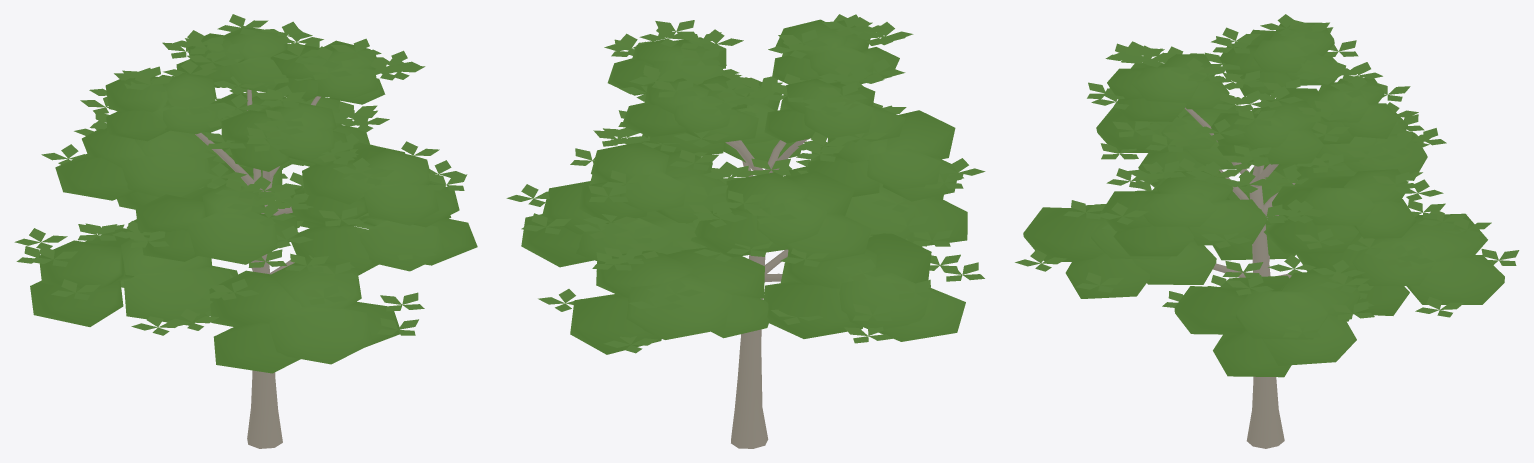
File: Blender_PacificDogwood_1.glb
3 views of the same model, side by side, from view 1: azimuth 30°, elevation 25°; view 2: azimuth 150°, elevation 25°; view 3: azimuth 270°, elevation 25° (orthographic). The views are drawn at different scales.
Visible parts, largest first — view 1: Blender_PacificDogwood_1; view 2: Blender_PacificDogwood_1; view 3: Blender_PacificDogwood_1.
Part boxes in pixels (left/top/right/bottom): Blender_PacificDogwood_1: left=14, top=14, right=477, bottom=448; Blender_PacificDogwood_1: left=506, top=14, right=985, bottom=448; Blender_PacificDogwood_1: left=1015, top=14, right=1519, bottom=448.
Size of the model in its own units: 9.88 by 8.18 by 10.22.
